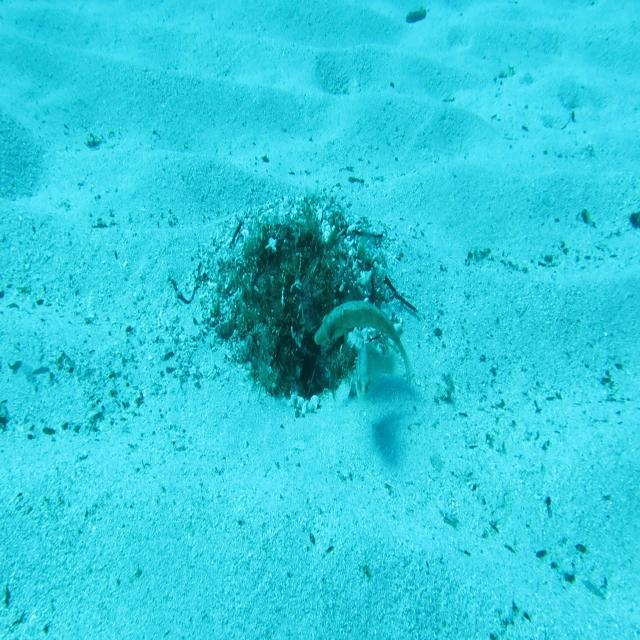BEND: (313, 290, 414, 395)
core_nest: (270, 233, 319, 289)
female: (349, 333, 404, 404)
nest: (186, 177, 409, 431)
vegetation: (405, 7, 428, 25), (627, 205, 640, 227)
